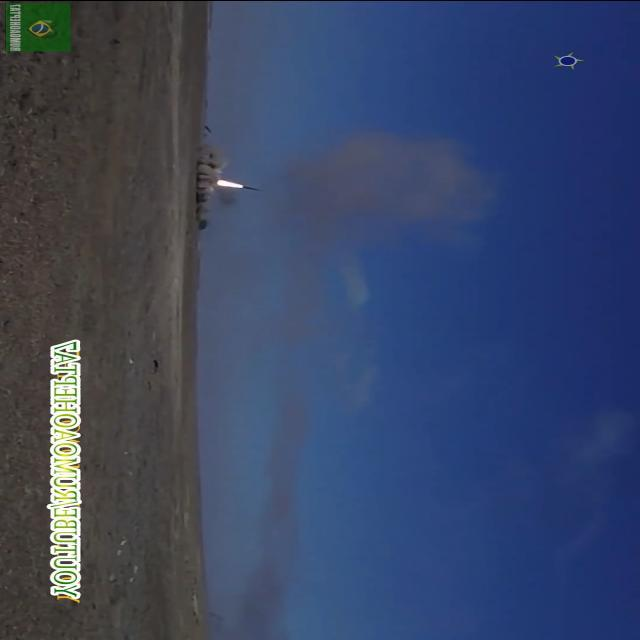missile: (235, 183, 275, 194)
